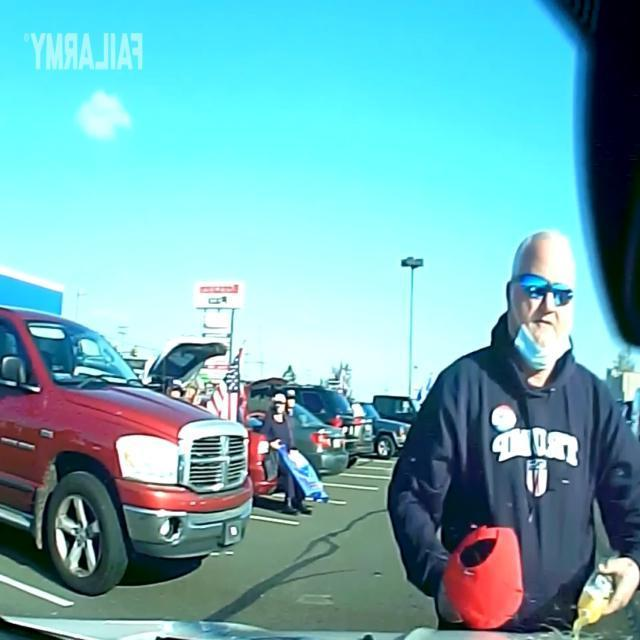person: (385, 233, 638, 640)
